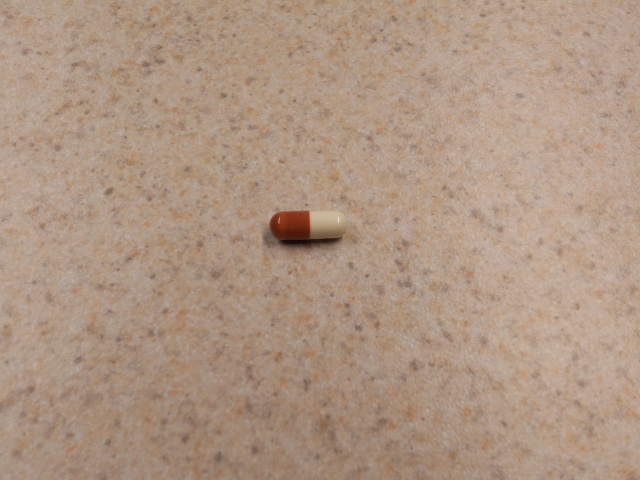capsule: (268, 206, 348, 241)
